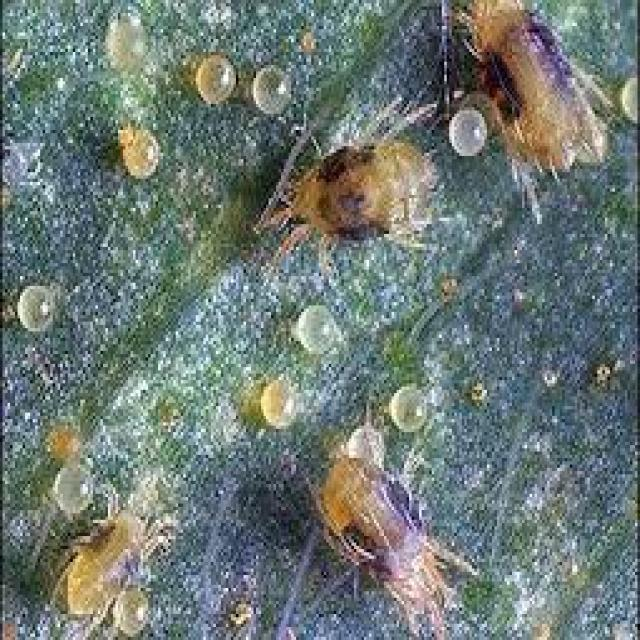Mites: (255, 90, 453, 275), (447, 0, 622, 200), (310, 443, 481, 640), (39, 484, 182, 639)
